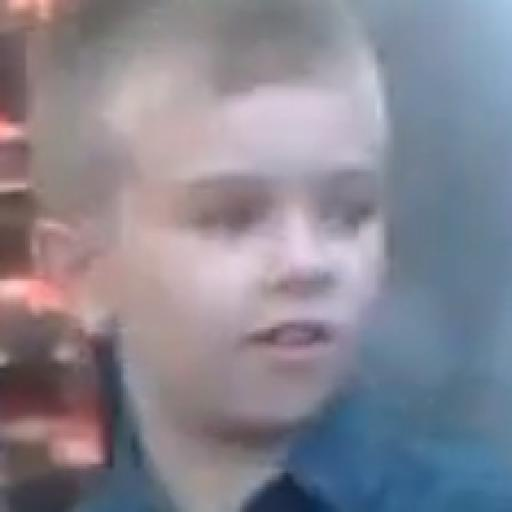Autism: (44, 12, 412, 420)
